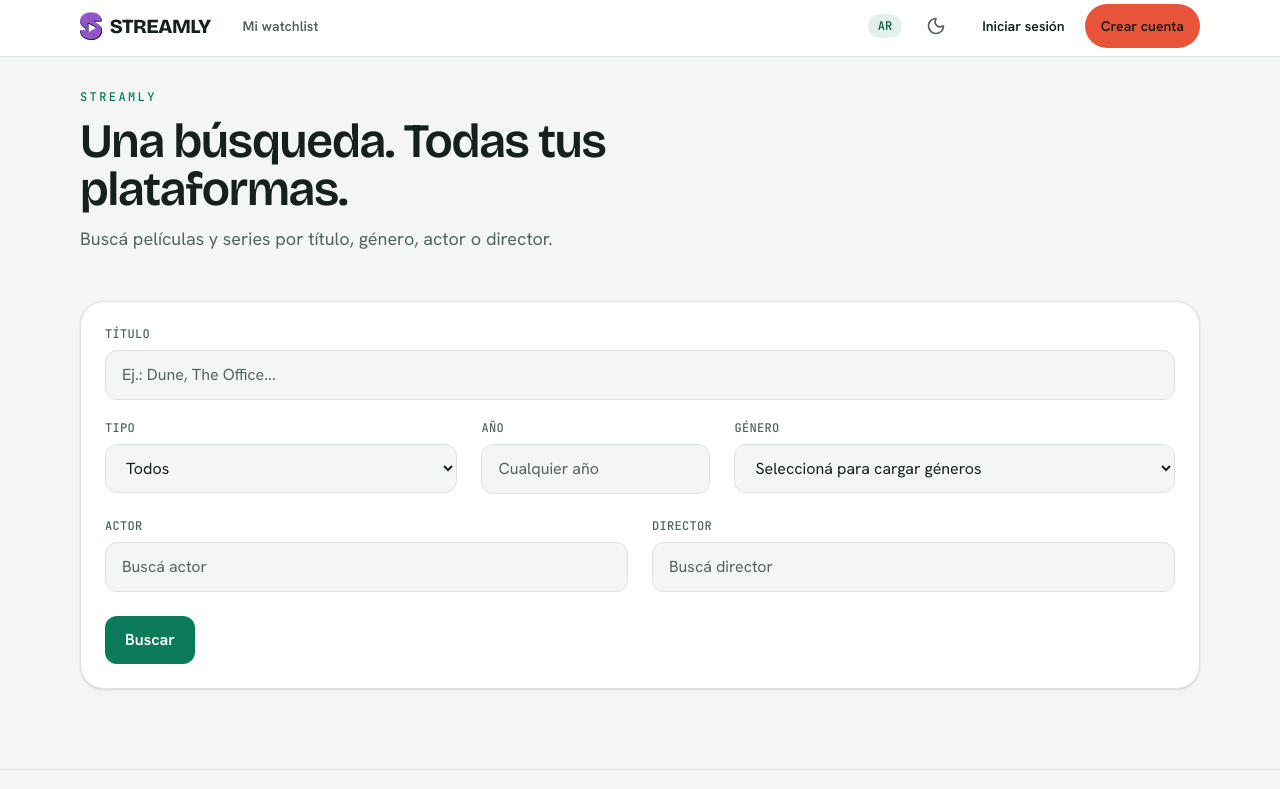
it: router de la aplicación › navega de una tarjeta a la ficha y restaura la búsqueda desde la URL al volver
Type "Dune" into the search field labelled "Título" at [640, 375], box [105,350,1175,400]
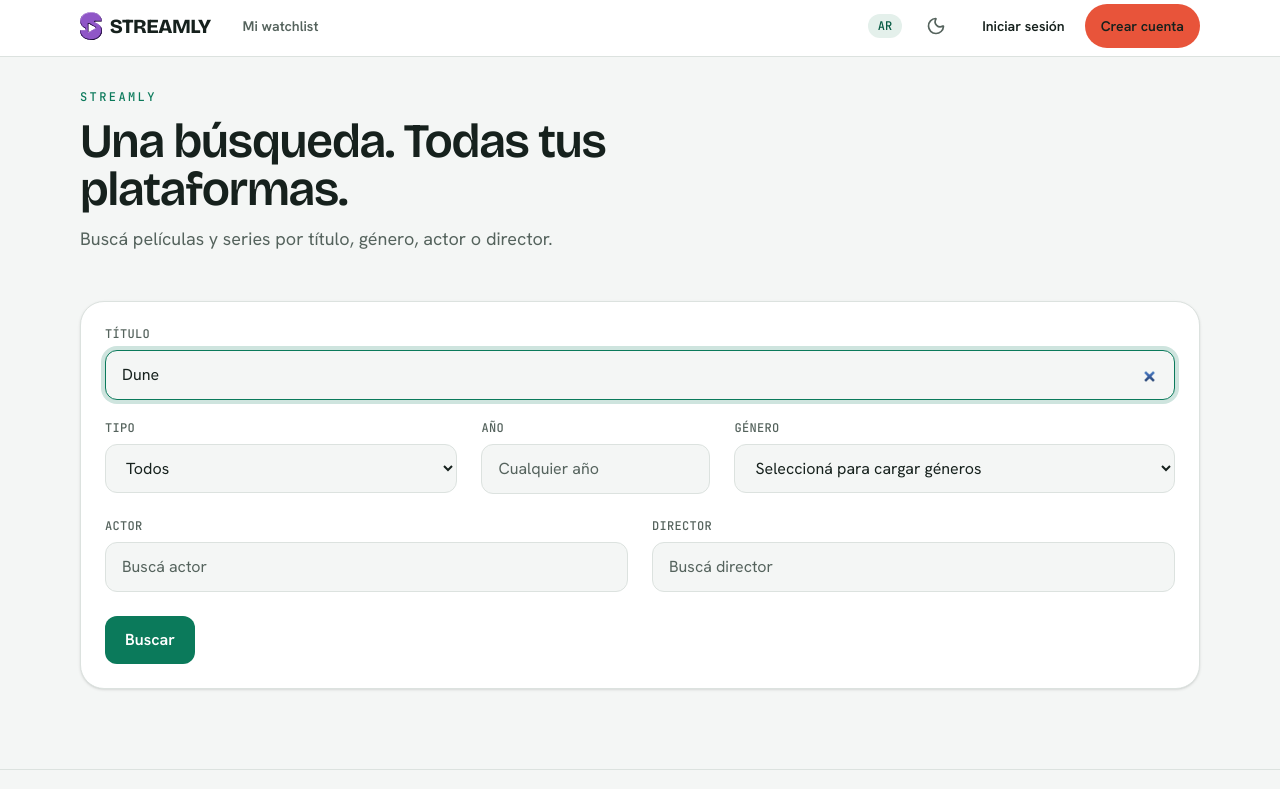
Click the button "Buscar" at [150, 640], box [105,616,195,664]
(page scrolled)
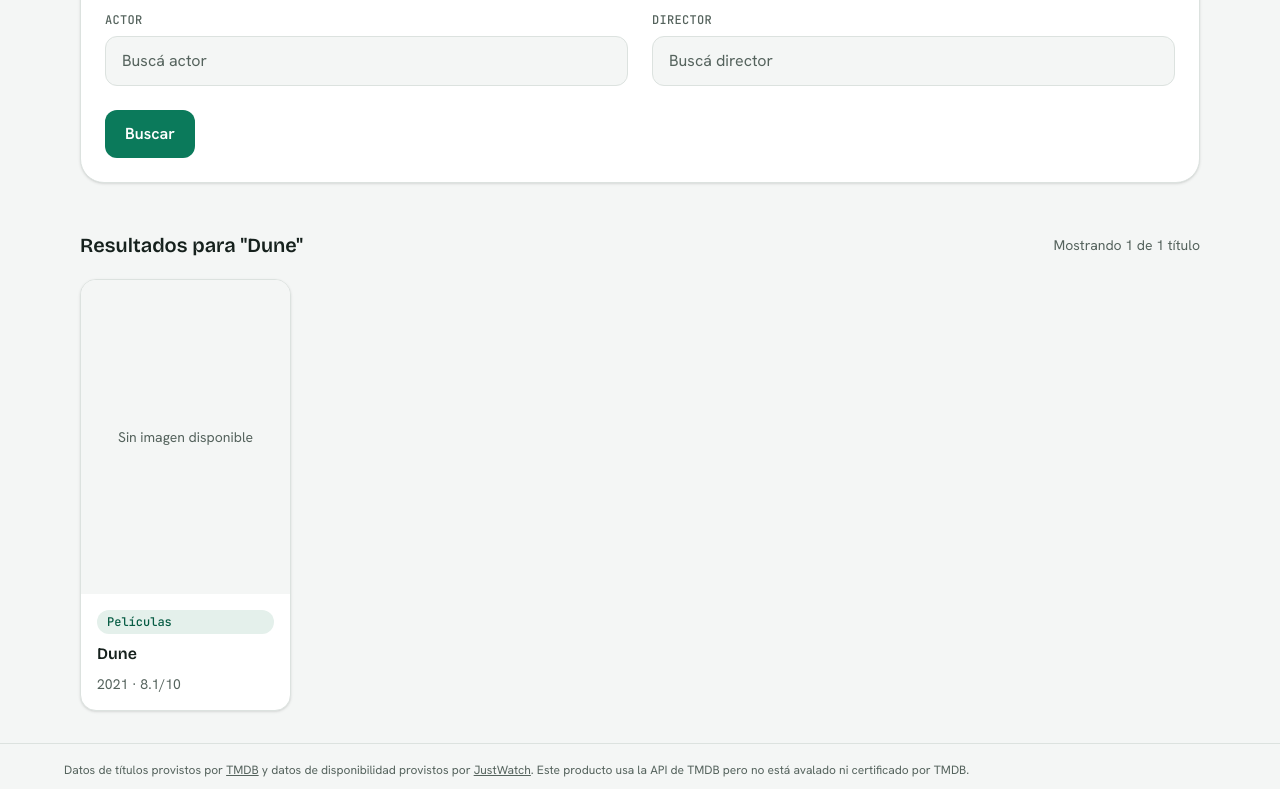
expect the heading "Dune" is shown: met, box [97,644,137,663]
Click the link with aria-label "Ver detalle de Dune" at [186, 495], box [80,279,291,711]
(page scrolled)
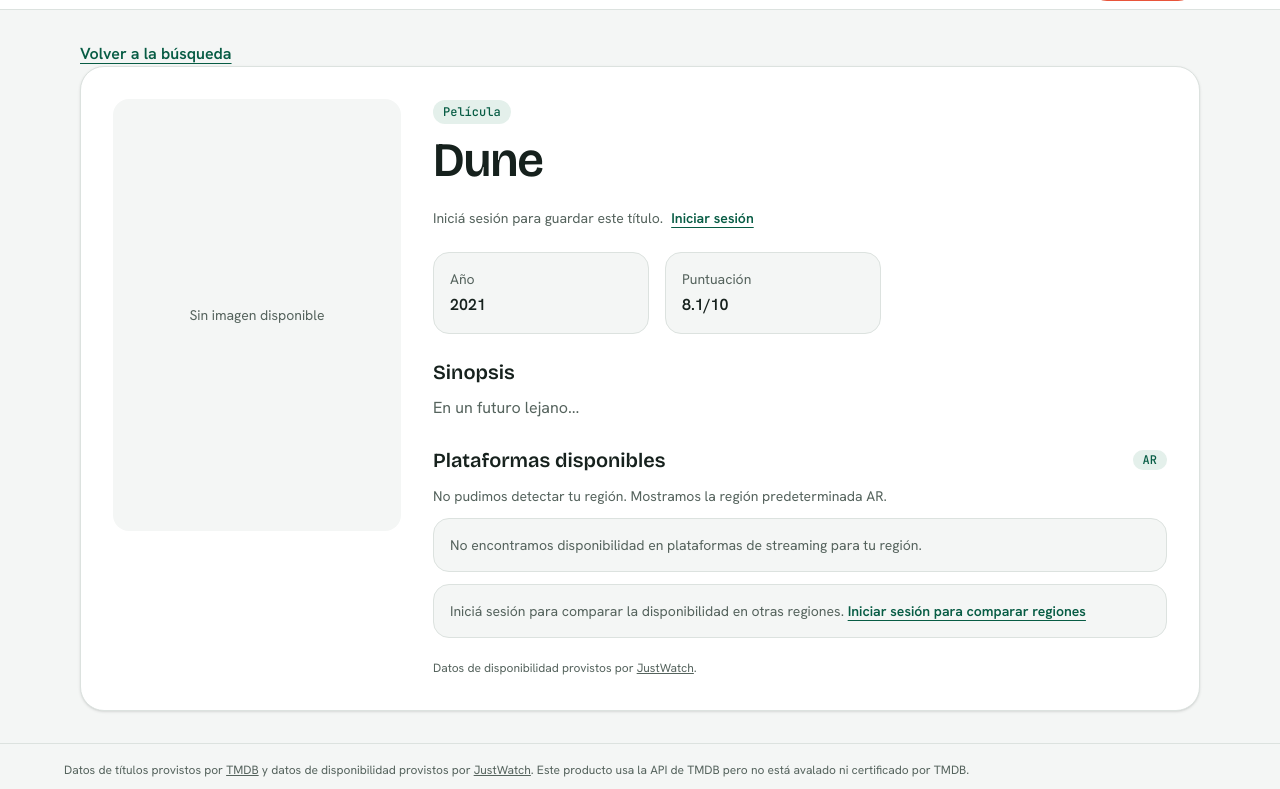
expect the text "Datos de títulos provistos por" is shown once: met, box [64,762,969,778]
expect the heading "Dune" is shown: met, box [433,131,543,189]
Click the link "Volver a la búsqueda" at [156, 54], box [80,43,232,64]
(page scrolled)
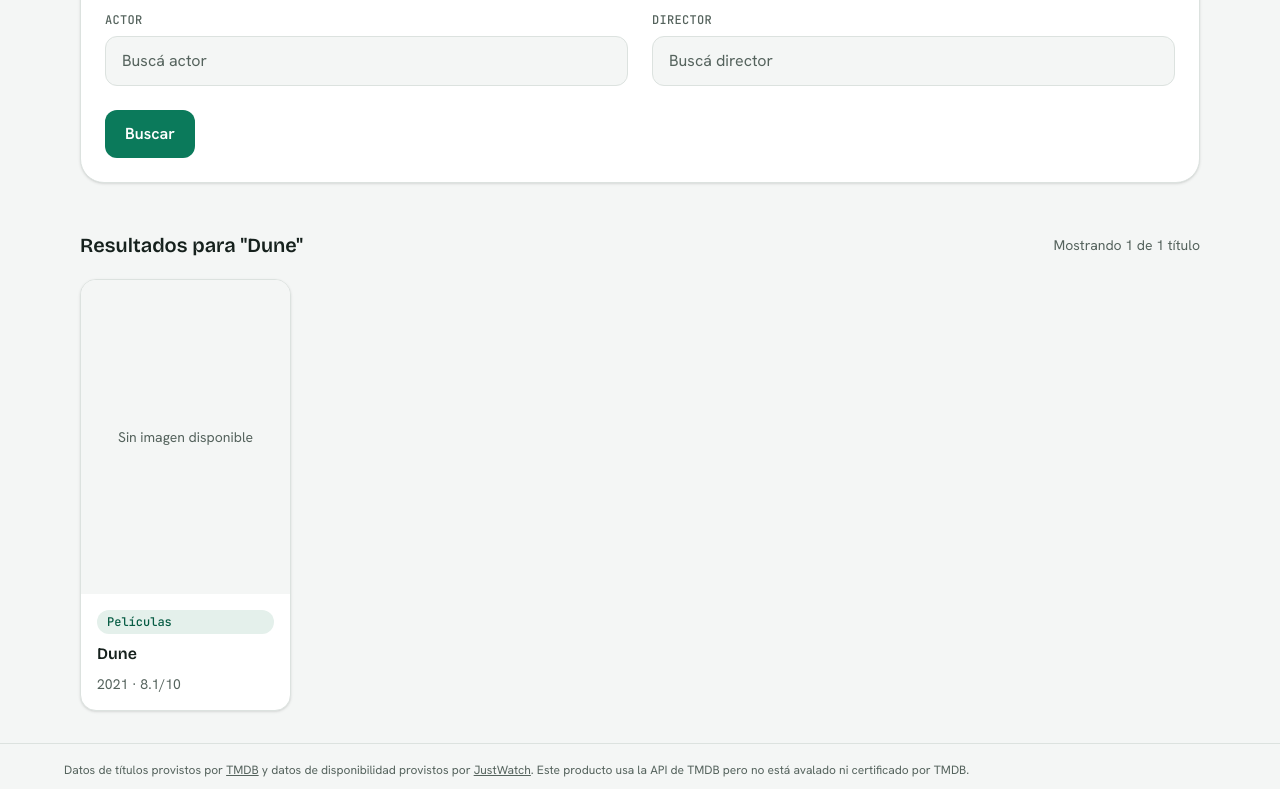
expect the heading "Resultados para \"Dune\"" is shown: met, box [80,231,303,259]
expect the heading "Dune" is shown: met, box [97,644,137,663]
